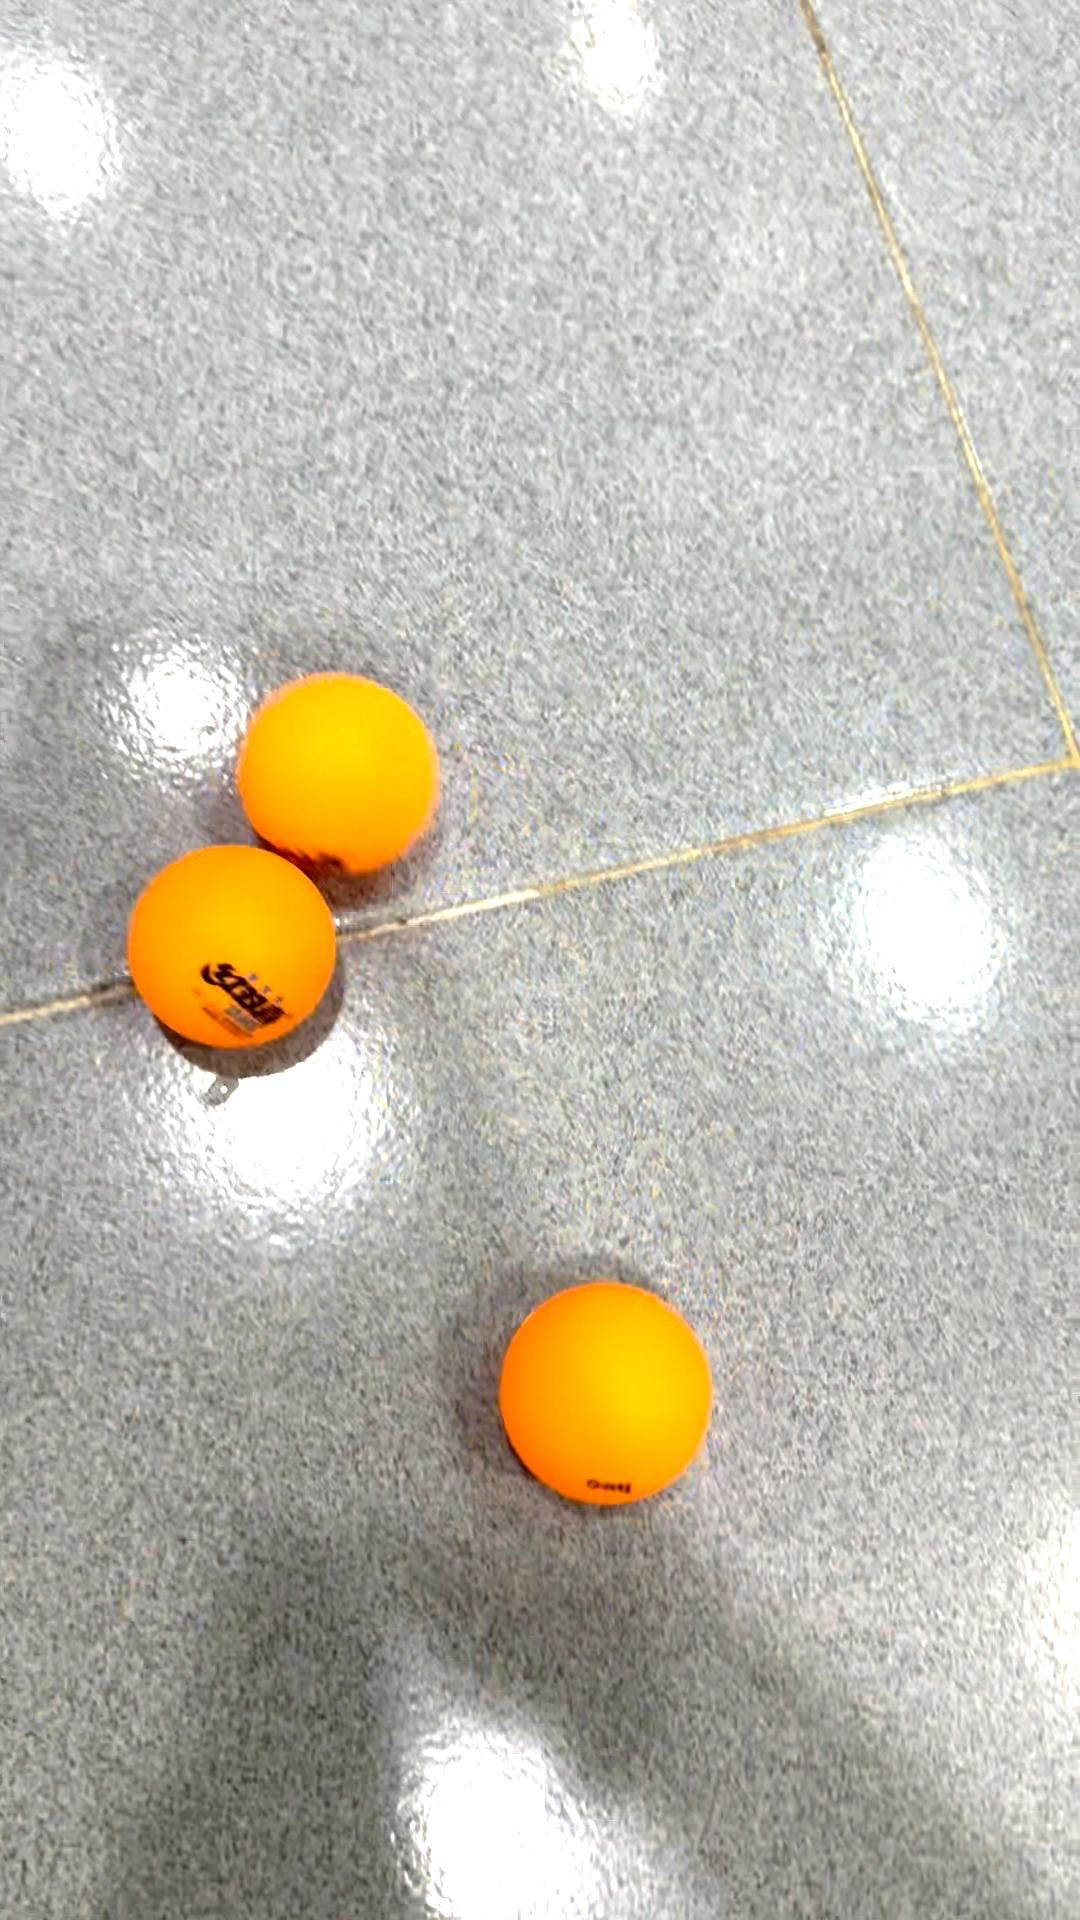oball: (111, 828, 351, 1080), (491, 1271, 731, 1519), (231, 658, 455, 882)
